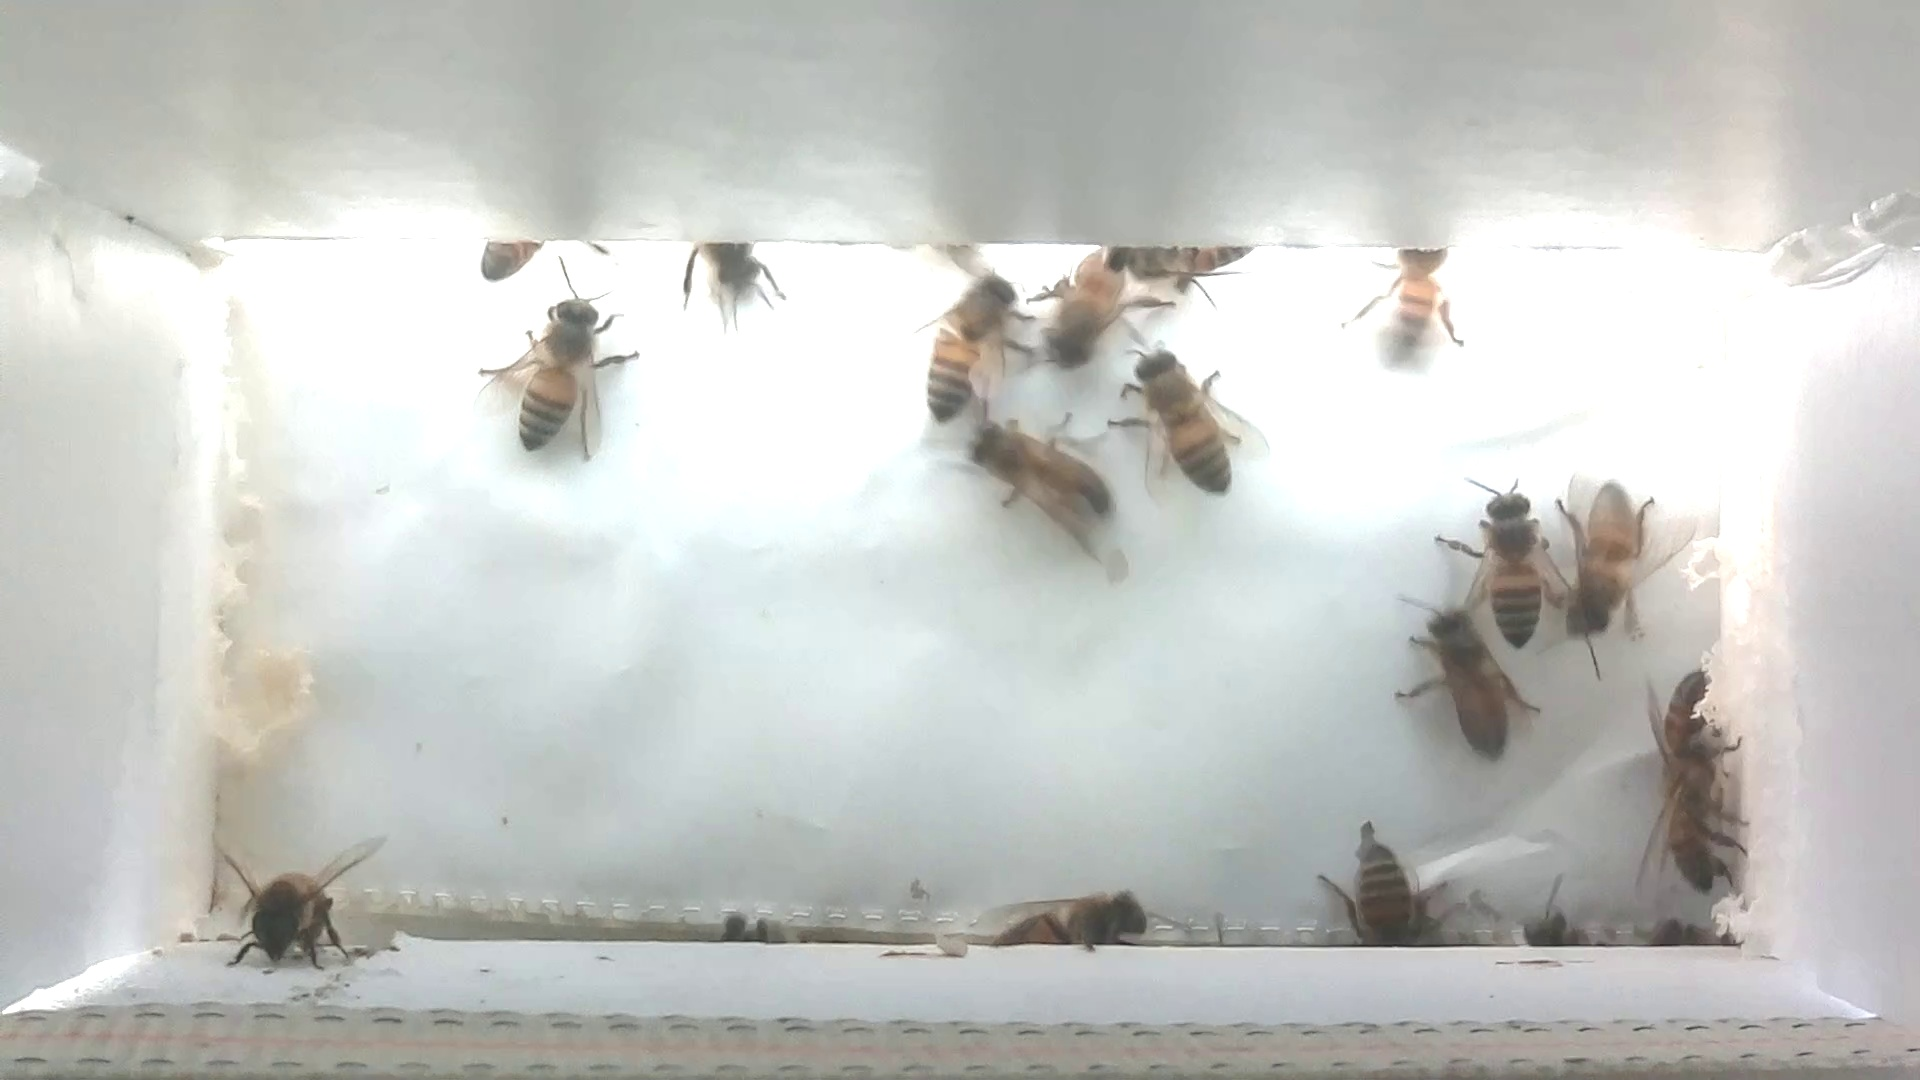bee: (479, 260, 640, 471), (1386, 580, 1551, 773), (1102, 339, 1269, 518), (1544, 458, 1668, 684), (957, 404, 1126, 560), (214, 833, 392, 976), (1437, 459, 1561, 659), (914, 245, 1036, 444), (1026, 225, 1174, 389), (1311, 819, 1466, 965), (1341, 233, 1476, 378), (1623, 654, 1730, 831), (968, 873, 1163, 965), (1648, 733, 1745, 905), (1100, 229, 1275, 318), (665, 225, 798, 342), (465, 220, 615, 289)
